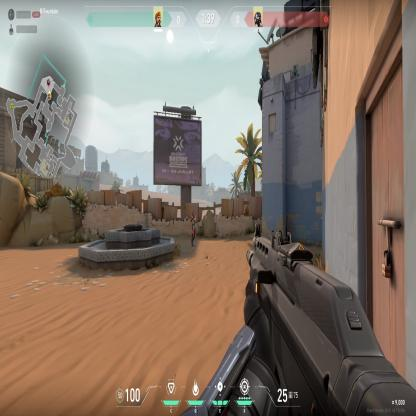enemy: (189, 210, 197, 246)
